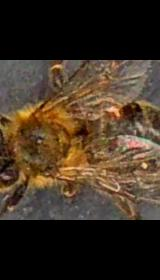varroa_mite: (104, 100, 126, 125)
